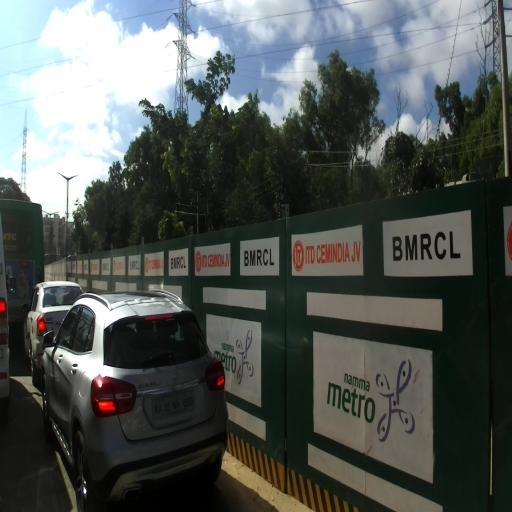street_light_0: (58, 172, 68, 183), (67, 174, 78, 184), (42, 210, 51, 218), (50, 211, 59, 218)
